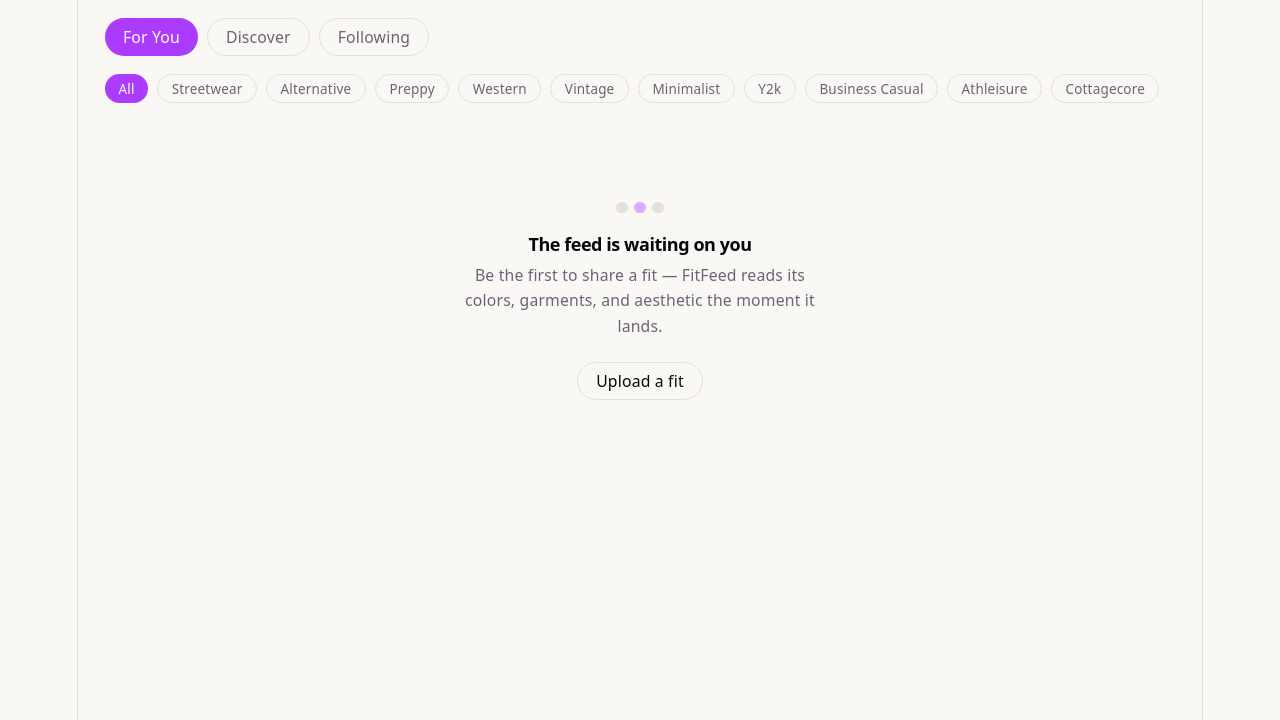
Scenario: Feed empty states › shows the following-specific empty state
Click the button "Following": (374, 37) [319, 18, 429, 56]
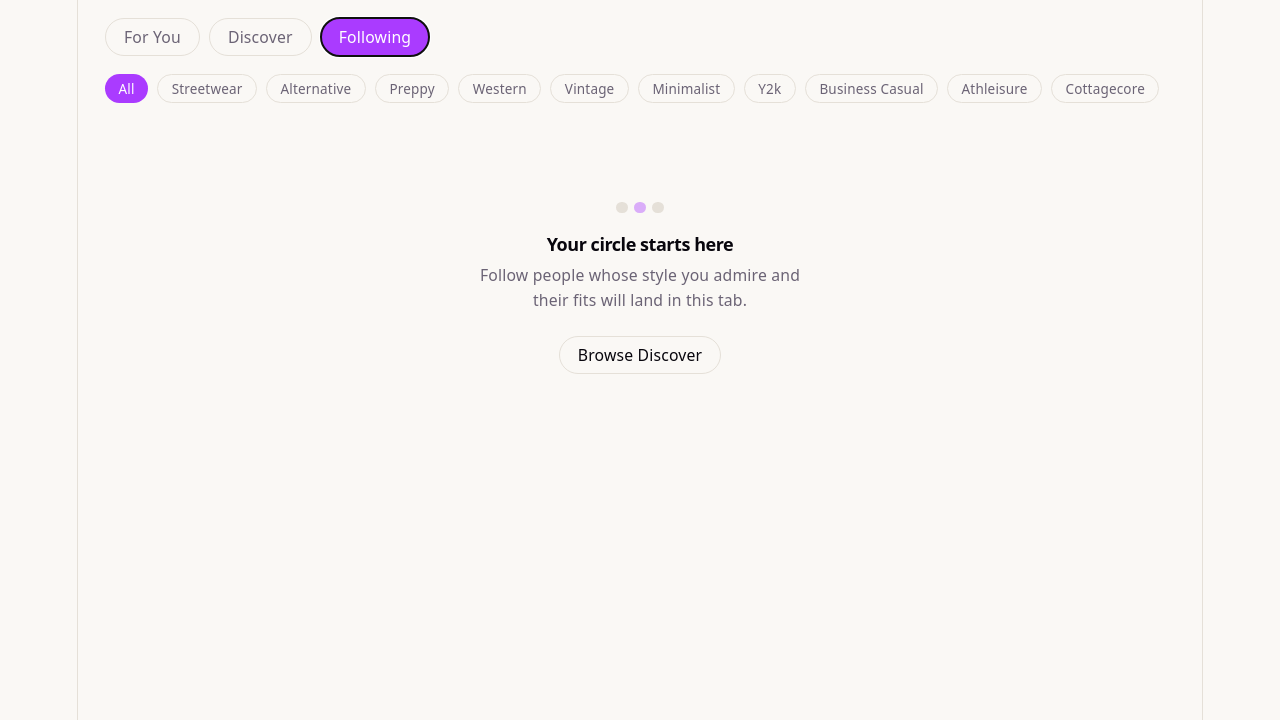
Now the heading "Your circle starts here" is shown, box [547, 231, 733, 258]
